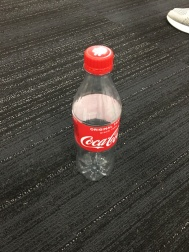bottle_red: (64, 39, 127, 186)
